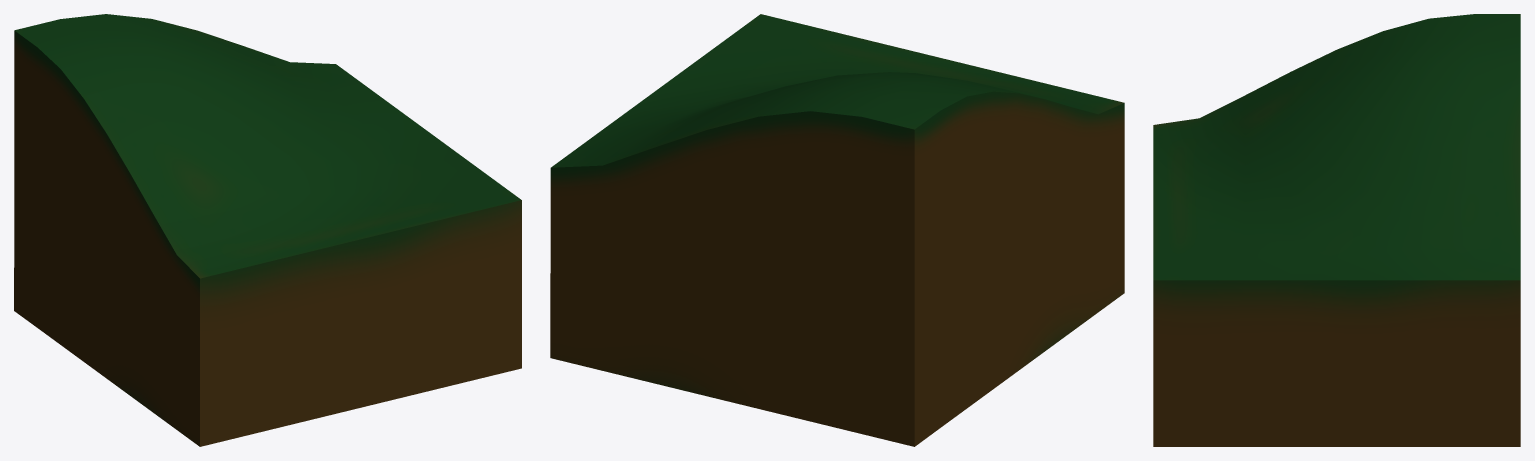
The model's file is hillOuter.fbx.
The picture shows the model from 3 angles, left to right: view 1: azimuth 30°, elevation 25°; view 2: azimuth 150°, elevation 25°; view 3: azimuth 270°, elevation 25°; orthographic projection. The views are drawn at different scales.
Visible parts, largest first — view 1: Box001; view 2: Box001; view 3: Box001.
Boxes of the visible parts, left/top/right/bottom form: Box001: left=14, top=14, right=521, bottom=446; Box001: left=550, top=14, right=1124, bottom=446; Box001: left=1153, top=14, right=1520, bottom=446.
Size of the model in its own units: 60.07 by 50 by 60.
Materials: 1 (1 with a texture image).
